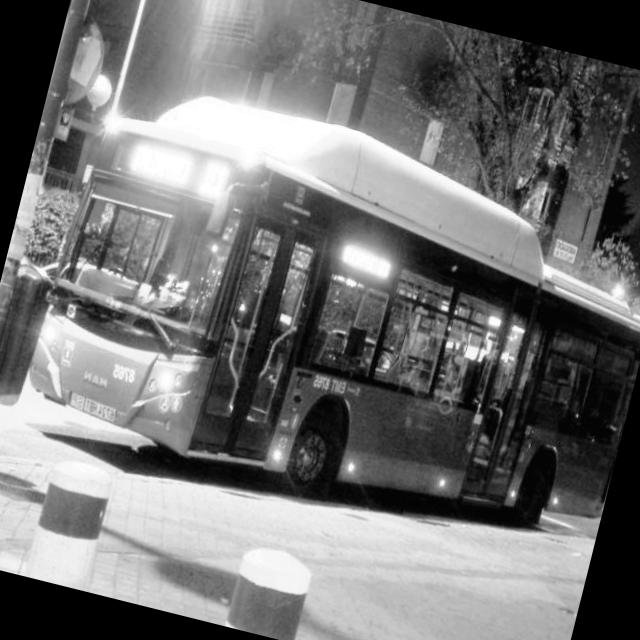Bus: (7, 108, 640, 611)
